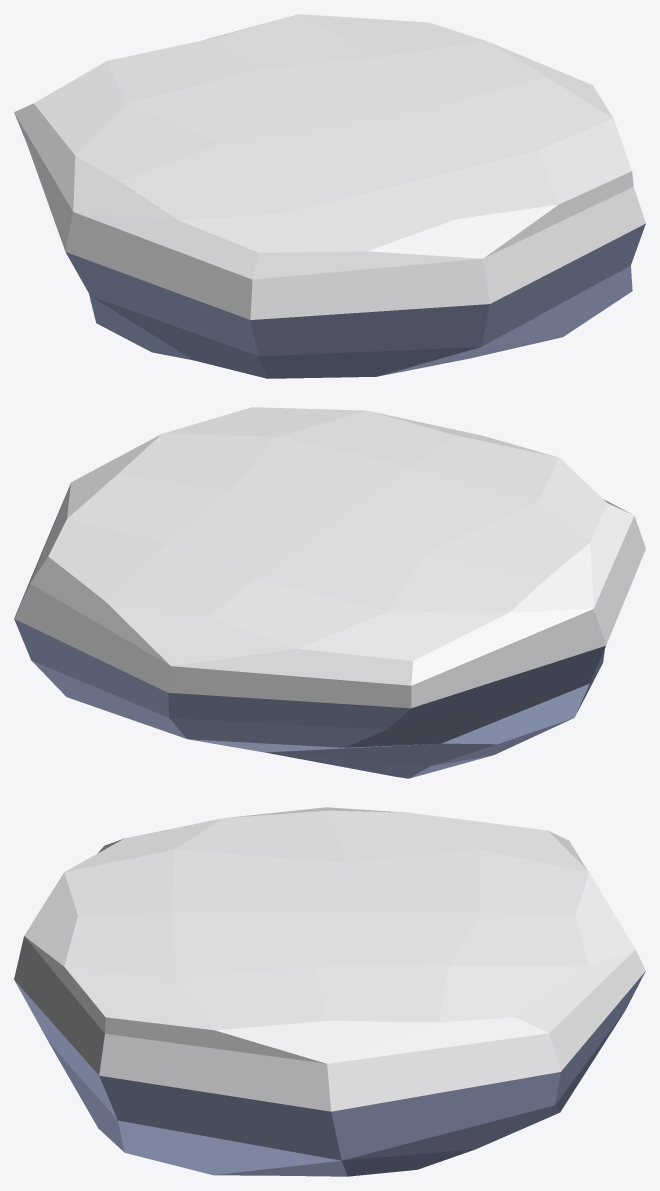
File: Hielo.fbx
The picture shows the model from 3 angles, top to bottom: view 1: azimuth 30°, elevation 25°; view 2: azimuth 150°, elevation 25°; view 3: azimuth 270°, elevation 25°; orthographic projection.
Parts seen in each view (by area): view 1: Hielo; view 2: Hielo; view 3: Hielo.
Part boxes in pixels (<box>): Hielo: <box>14,14,645,378</box>; Hielo: <box>14,407,645,778</box>; Hielo: <box>14,807,645,1176</box>.
Bounding box in the file's own units: 364 × 120 × 362.
